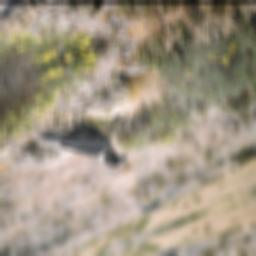Crow: (32, 94, 131, 193)
